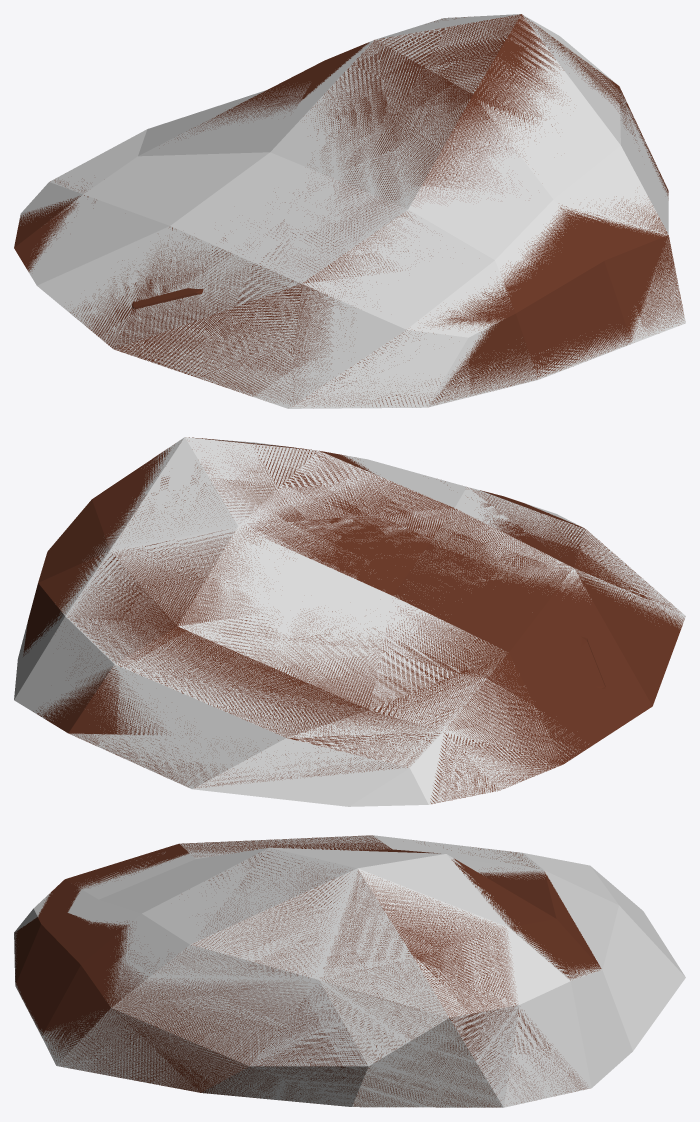
The model's file is Forest_Ground.fbx.
3 views of the same model, one above another, from view 1: azimuth 30°, elevation 25°; view 2: azimuth 150°, elevation 25°; view 3: azimuth 270°, elevation 25° (orthographic). The views are drawn at different scales.
Visible parts, largest first — view 1: Ground_W_002, Ground_br_002, Ground_br_001; view 2: Ground_W_002, Ground_br_002; view 3: Ground_W_002, Ground_br_002.
Boxes of the visible parts, x1,y1,x2,y2 form: Ground_W_002: (19,14,685,408); Ground_br_002: (14,14,683,407); Ground_br_001: (132,288,203,308); Ground_W_002: (14,437,685,806); Ground_br_002: (23,437,684,803); Ground_W_002: (14,835,685,1107); Ground_br_002: (14,835,601,1107).
Bounding box in the file's own units: 5.15 × 1.75 × 5.53.
